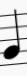note: (3, 7, 21, 67)
